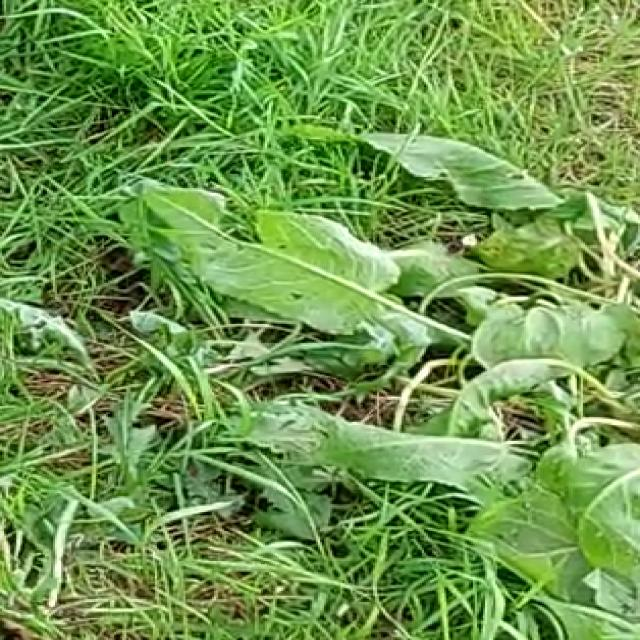organic waste: (89, 80, 640, 586)
